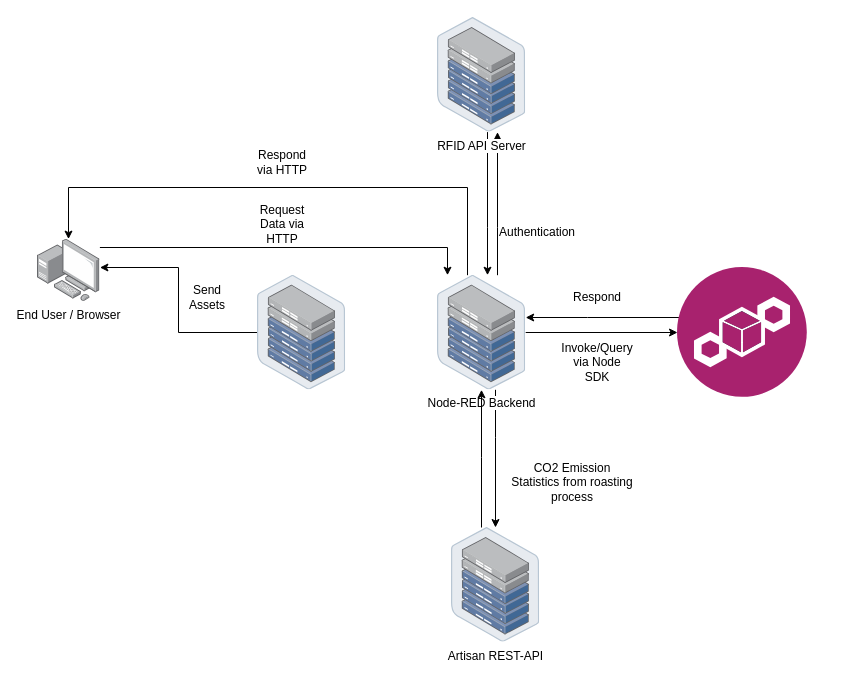
Some shapes in this 842 by 680 pixel diagram are drawn without their labels. Here are the shapes that lost their labels. From the top down, the centre of each, then its label:
At pixel 301 332: "Frontend Delivery Server".
At pixel 742 332: "Hyperledger Fabric Blockchain".
